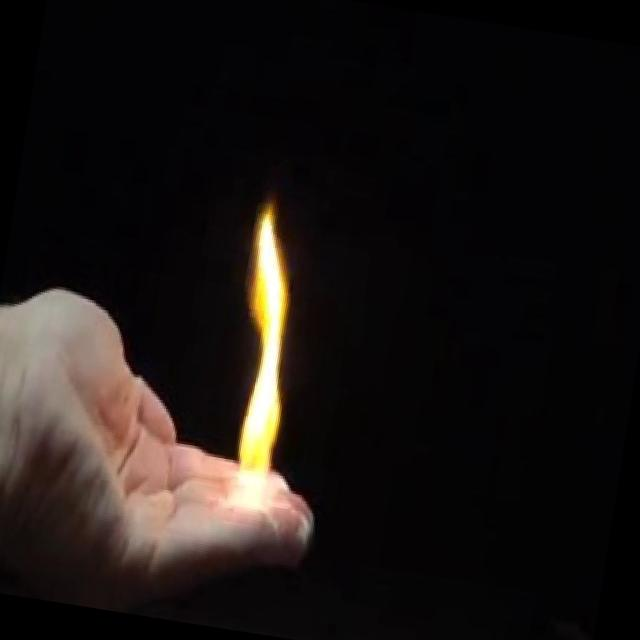Fire: (206, 184, 326, 524)
